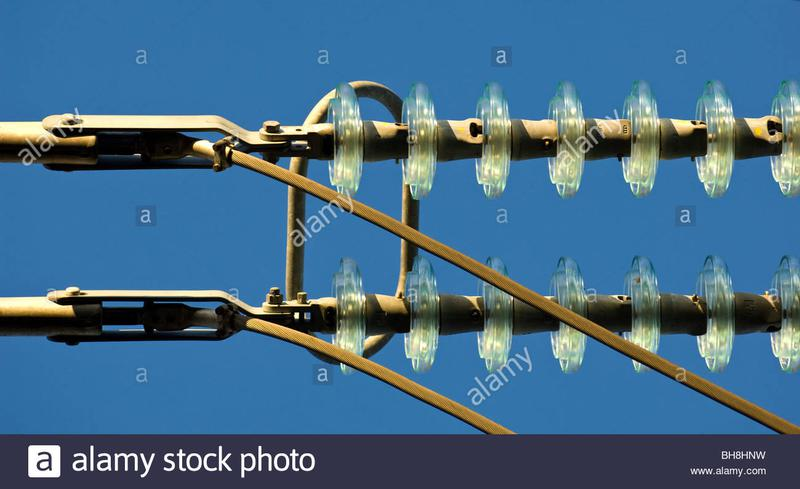isolator: (324, 79, 800, 376)
